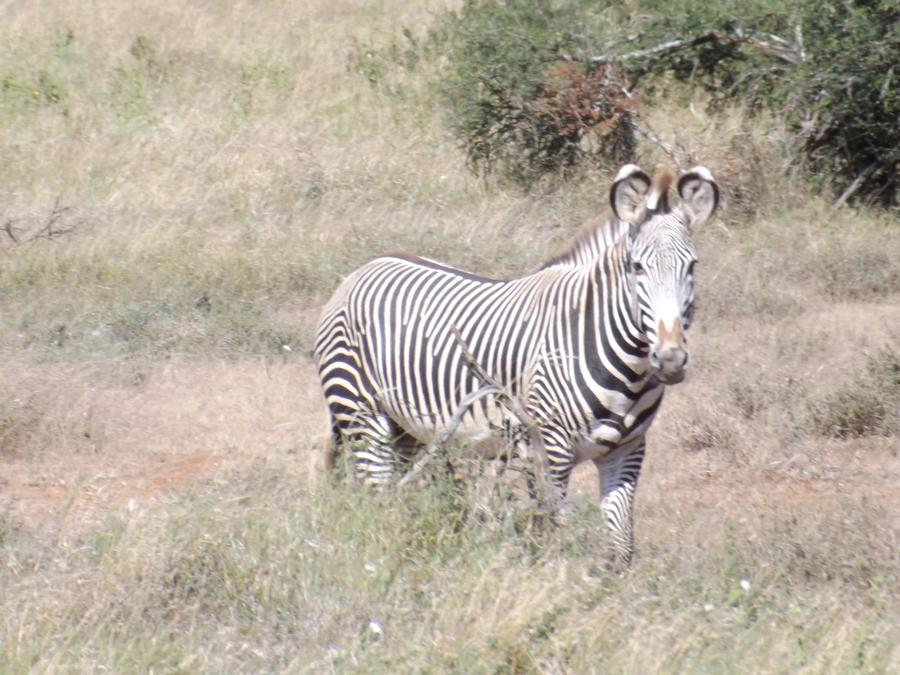zebra_grevys: (310, 218, 603, 457)
